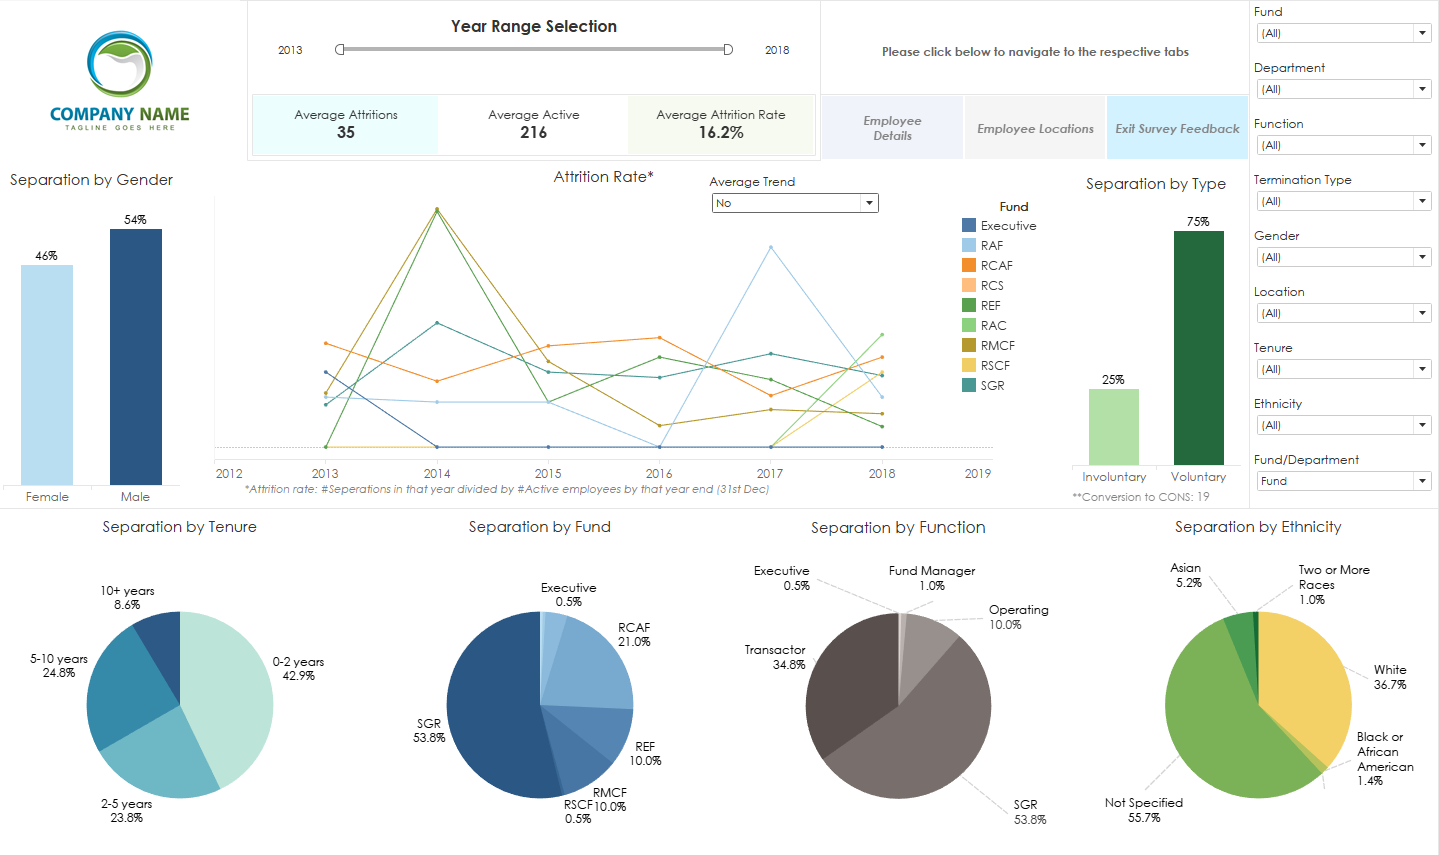

What the dashboard file says about the page in this screenshot:
{"tool":"tableau","page":{"name":"Assignment 1","canvas":[1000,800],"ordinal":0},"visuals":[{"type":"text","box":[8,8,242,126]},{"type":"text","box":[250,8,188,126]},{"type":"text","box":[438,8,170,126]},{"type":"worksheet","title":"Question 5 B","mark":"Pie","rows":["Number of Records","Number of Records"],"box":[608,8,281,126]},{"type":"filter","title":"Question 1","param":"[federated.0aonuuq1uxd0701dfhvfp1hzj5jx].[none:product:nk]","box":[889,8,103,89]},{"type":"legend","title":"Question 1","param":"[federated.0aonuuq1uxd0701dfhvfp1hzj5jx].[sum:Number of Records:qk]","box":[889,97,103,65]},{"type":"worksheet","title":"Question 1","mark":"Bar","rows":["Number of Records"],"cols":["delivered_week - Split 2"],"box":[8,134,540,176]},{"type":"worksheet","title":"Question 2","mark":"Line","rows":["product"],"cols":["delivered_week - Split 2"],"box":[548,134,341,176]},{"type":"legend","title":"Question 2","param":"[federated.0aonuuq1uxd0701dfhvfp1hzj5jx].[none:product:nk]","box":[889,162,103,66]},{"type":"legend","title":"Question 5 A","param":"[federated.0aonuuq1uxd0701dfhvfp1hzj5jx].[none:campaign:nk]","box":[889,228,103,126]},{"type":"worksheet","title":"Question 5 C","mark":"Automatic","rows":["customer_id"],"cols":["Calculation_1207527665949339652"],"box":[8,310,540,267]},{"type":"worksheet","title":"Question 4","mark":"Area","rows":["revenue","Number of Records"],"cols":["customer_id"],"box":[548,310,341,286]},{"type":"legend","title":"Question 4","param":"[federated.0aonuuq1uxd0701dfhvfp1hzj5jx].[:Measure Names]","box":[889,354,103,66]},{"type":"worksheet","title":"Question 3","mark":"Area","rows":["Number of Records","Number of Records"],"cols":["channel"],"box":[8,577,540,215]},{"type":"worksheet","title":"Question 5 A","mark":"Circle","box":[548,596,341,196]}]}

Visuals, with their boxes on the page's 1000x800 design canvas (x1, y1, x2, y2). These are canvas units, not pixel positions in the 1439x855 screenshot, which may show the page scaled, cropped or inside an application window:
text: box(8, 8, 250, 134)
text: box(250, 8, 438, 134)
text: box(438, 8, 608, 134)
"Question 5 B" worksheet (Pie marks): box(608, 8, 889, 134)
"Question 1" filter: box(889, 8, 992, 97)
"Question 1" legend: box(889, 97, 992, 162)
"Question 1" worksheet (Bar marks): box(8, 134, 548, 310)
"Question 2" worksheet (Line marks): box(548, 134, 889, 310)
"Question 2" legend: box(889, 162, 992, 228)
"Question 5 A" legend: box(889, 228, 992, 354)
"Question 5 C" worksheet: box(8, 310, 548, 577)
"Question 4" worksheet (Area marks): box(548, 310, 889, 596)
"Question 4" legend: box(889, 354, 992, 420)
"Question 3" worksheet (Area marks): box(8, 577, 548, 792)
"Question 5 A" worksheet (Circle marks): box(548, 596, 889, 792)
